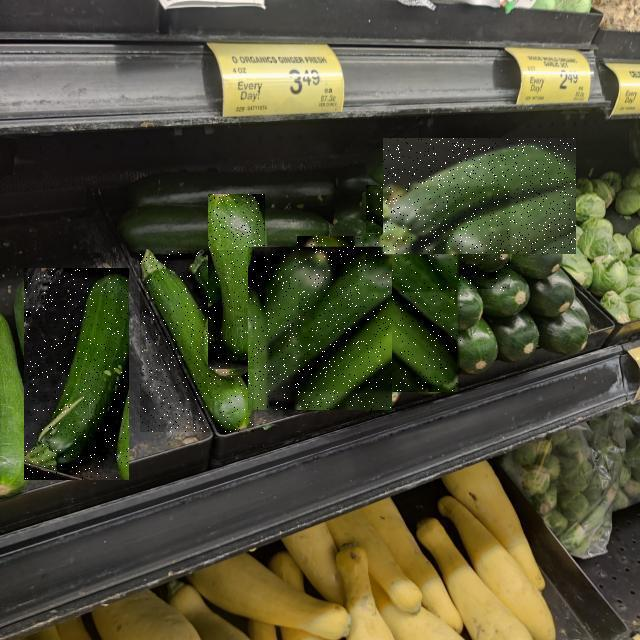Zuccini: (298, 237, 462, 393), (248, 247, 392, 410), (383, 139, 576, 255), (24, 268, 129, 480), (140, 250, 254, 432), (366, 186, 510, 292), (208, 194, 265, 369)
